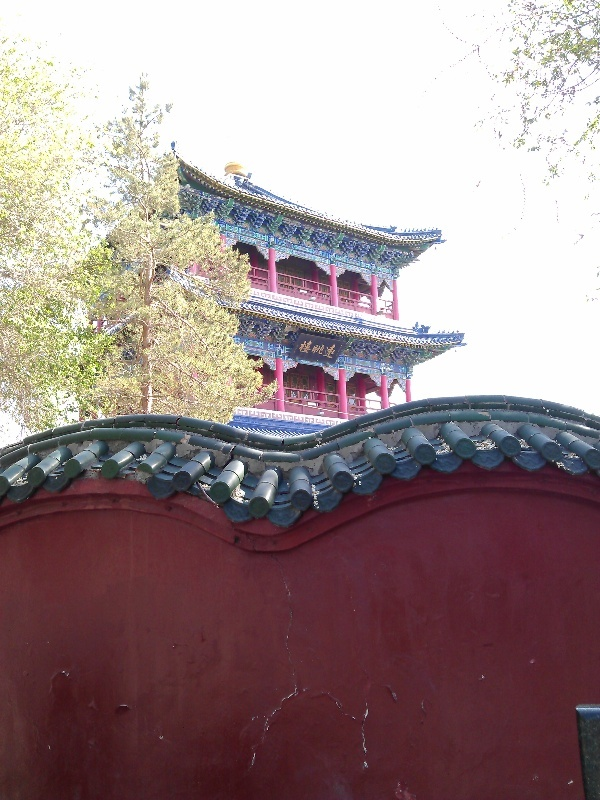text: (321, 339, 337, 360), (305, 339, 320, 360), (301, 339, 304, 360)
